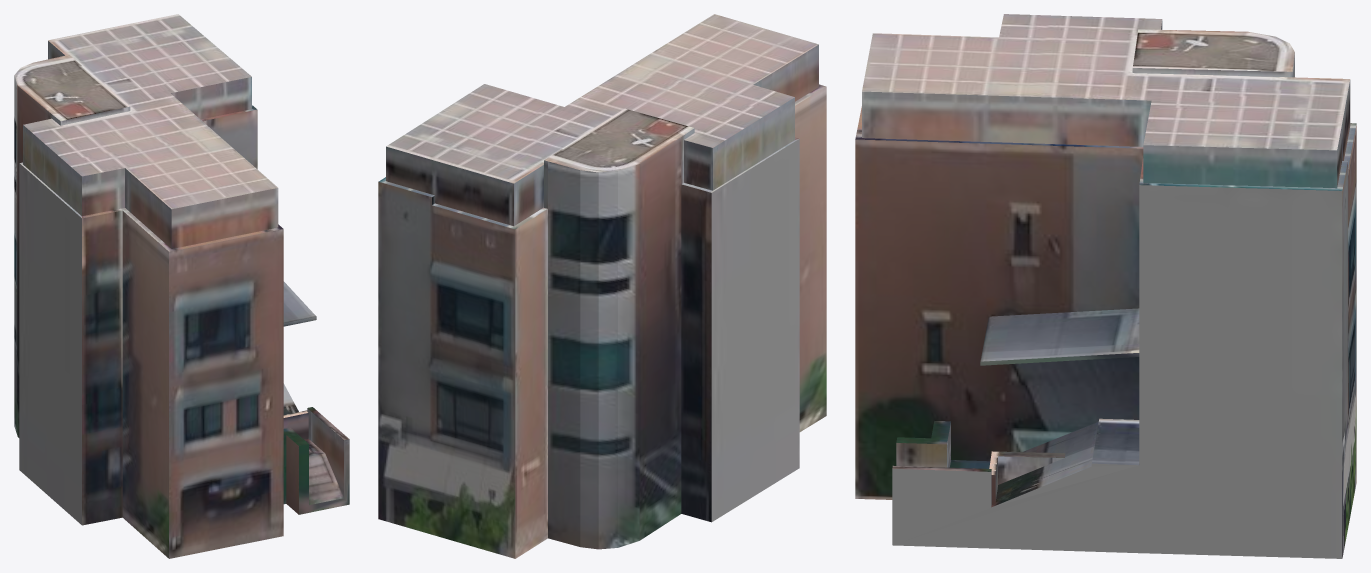
The picture shows the model from 3 angles, left to right: view 1: azimuth 30°, elevation 25°; view 2: azimuth 150°, elevation 25°; view 3: azimuth 270°, elevation 25°; orthographic projection. The views are drawn at different scales.
Parts seen in each view (by area): view 1: B280104041701063A0; view 2: B280104041701063A0; view 3: B280104041701063A0.
Boxes of the visible parts, <box> form: B280104041701063A0: <box>14,14,349,558</box>; B280104041701063A0: <box>378,14,826,558</box>; B280104041701063A0: <box>855,14,1356,558</box>.
Bounding box in the file's own units: 8.8 × 12.02 × 13.29.
Materials: 1 (1 with a texture image).
